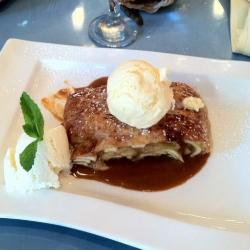apple_pie: (69, 85, 204, 155)
icecream: (104, 63, 173, 129), (14, 124, 68, 182)
